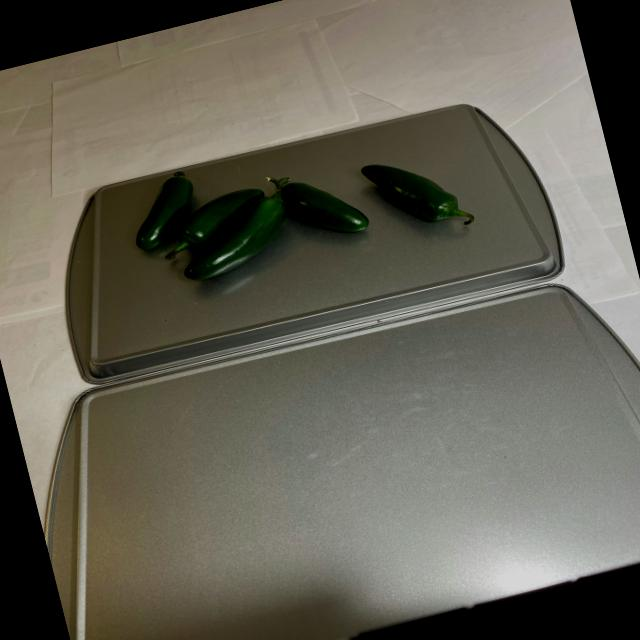chilli: (114, 100, 480, 320)
